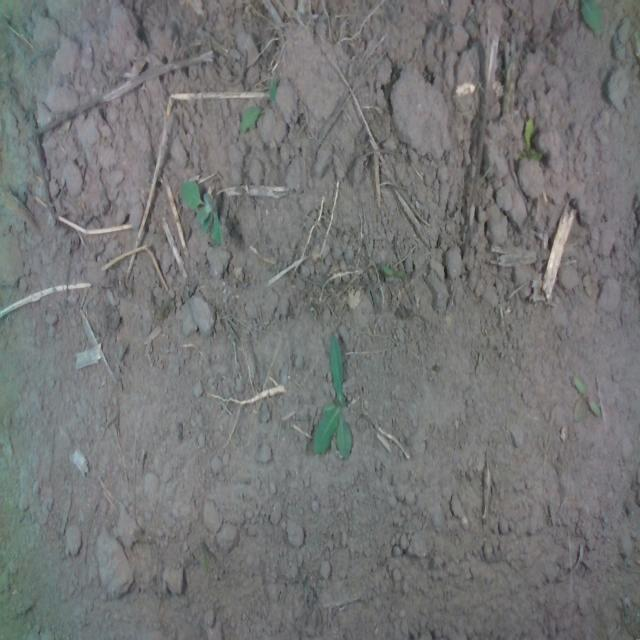weed: (311, 330, 353, 460), (178, 177, 222, 245), (571, 371, 601, 425), (381, 263, 405, 276)
